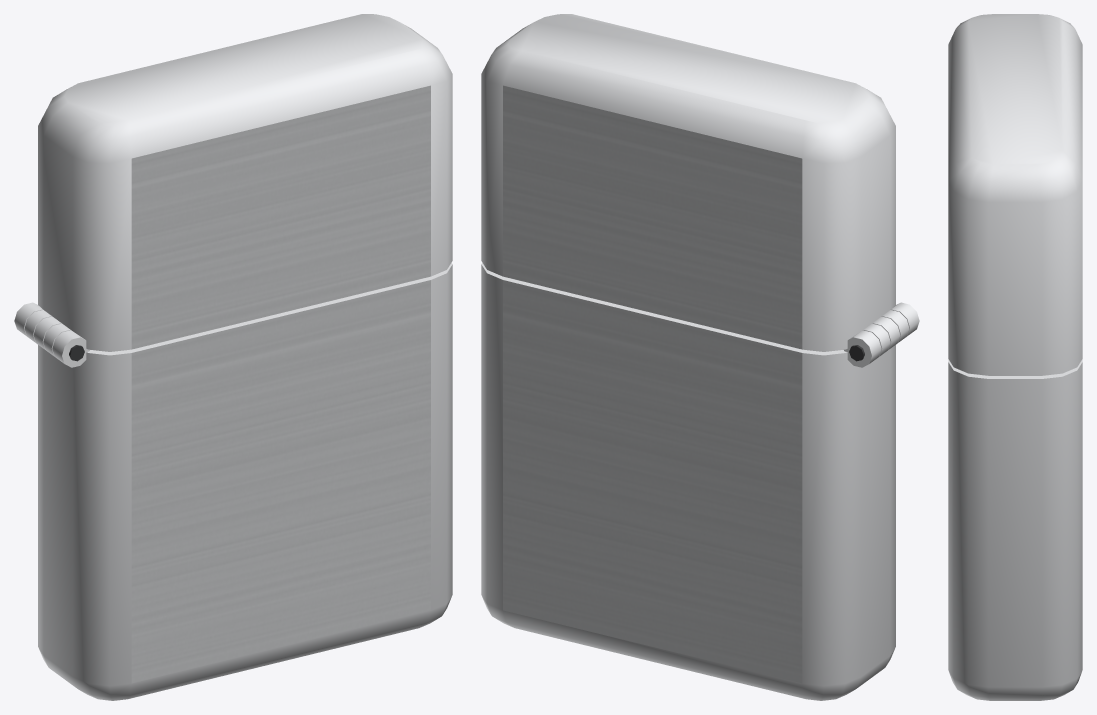
File: encendedor_apagado.glb
3 renders of one model, left to right at view 1: azimuth 30°, elevation 25°; view 2: azimuth 150°, elevation 25°; view 3: azimuth 270°, elevation 25°, orthographic. The views are drawn at different scales.
Visible parts, largest first — view 1: Cuerpo_Inferior, Tapa_Superior; view 2: Cuerpo_Inferior, Tapa_Superior; view 3: Tapa_Superior, Cuerpo_Inferior.
Part boxes in pixels (x1,y1,x2,y2): Cuerpo_Inferior: (14,262,452,700); Tapa_Superior: (24,14,452,356); Cuerpo_Inferior: (481,262,919,700); Tapa_Superior: (481,14,909,356); Tapa_Superior: (948,14,1082,375); Cuerpo_Inferior: (948,359,1082,700).
Bounding box in the file's own units: 0.0401 × 0.056 × 0.0127.
Materials: 5 (2 with a texture image).
